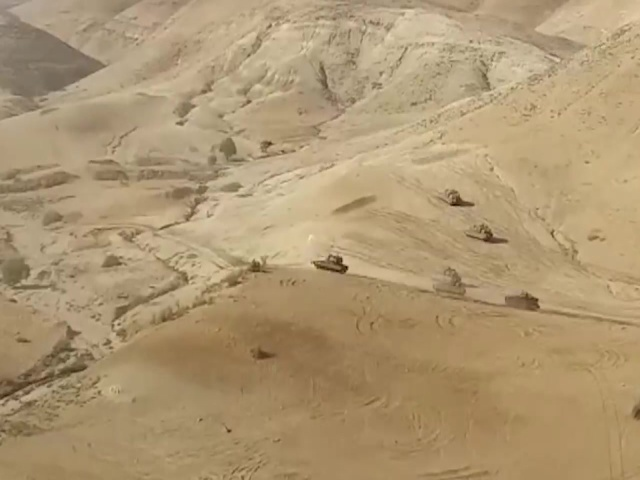vehicle: (503, 290, 543, 310), (313, 254, 350, 275), (432, 277, 467, 296), (465, 221, 493, 242), (445, 187, 463, 208)
